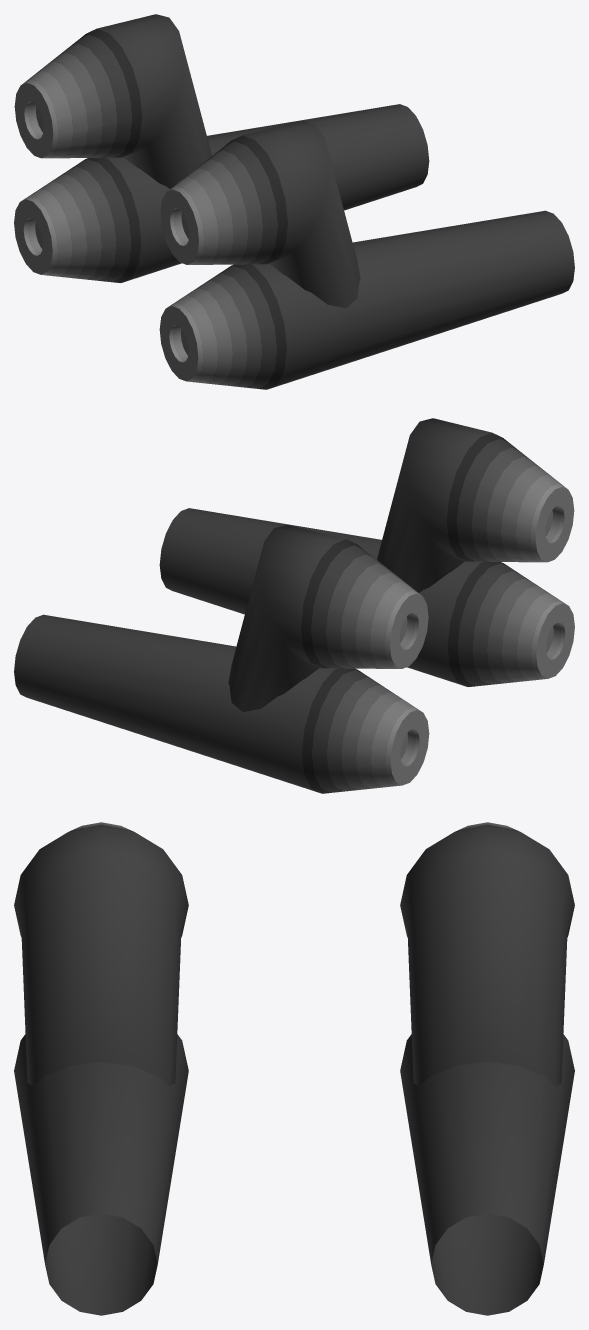
File: Knight_Exhaust.FBX
The picture shows the model from 3 angles, top to bottom: view 1: azimuth 30°, elevation 25°; view 2: azimuth 150°, elevation 25°; view 3: azimuth 270°, elevation 25°; orthographic projection. The views are drawn at different scales.
Parts seen in each view (by area): view 1: Exhaust_4; view 2: Exhaust_4; view 3: Exhaust_4.
Boxes of the visible parts, bbox=[...] form: Exhaust_4: bbox=[14, 14, 574, 389]; Exhaust_4: bbox=[14, 418, 574, 793]; Exhaust_4: bbox=[14, 822, 574, 1315].
Bounding box in the file's own units: 73.35 × 46.03 × 71.76.
